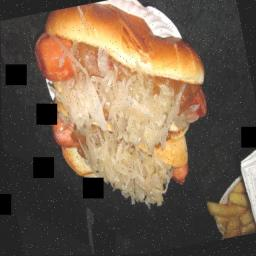hotdog: (27, 22, 80, 91), (166, 76, 211, 128), (45, 104, 83, 158), (166, 154, 192, 194)
